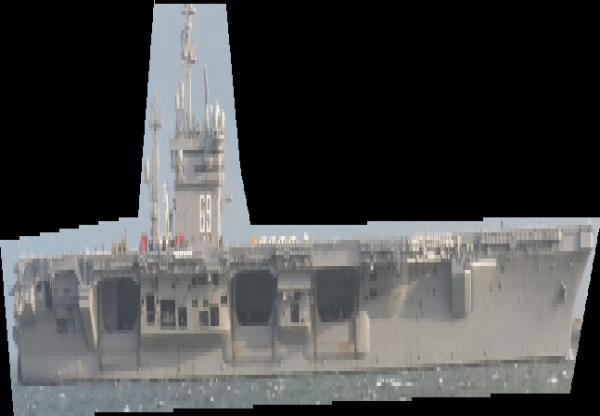Aircraft Carrier: (0, 1, 600, 416)
